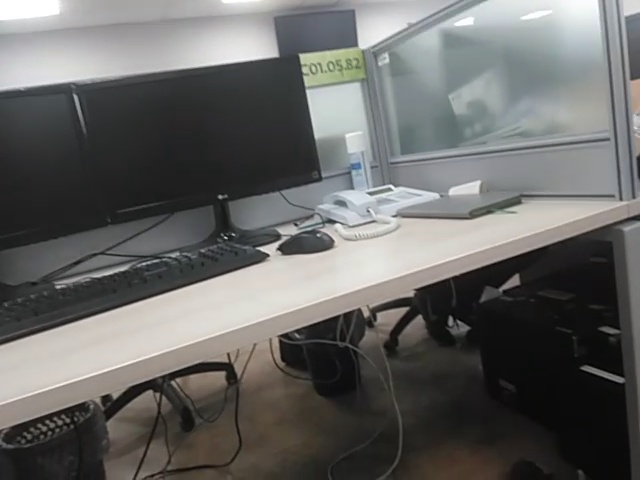table: (298, 48, 367, 89)
